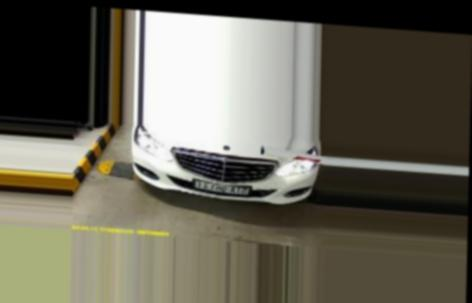License_Plate: (191, 178, 252, 199)
